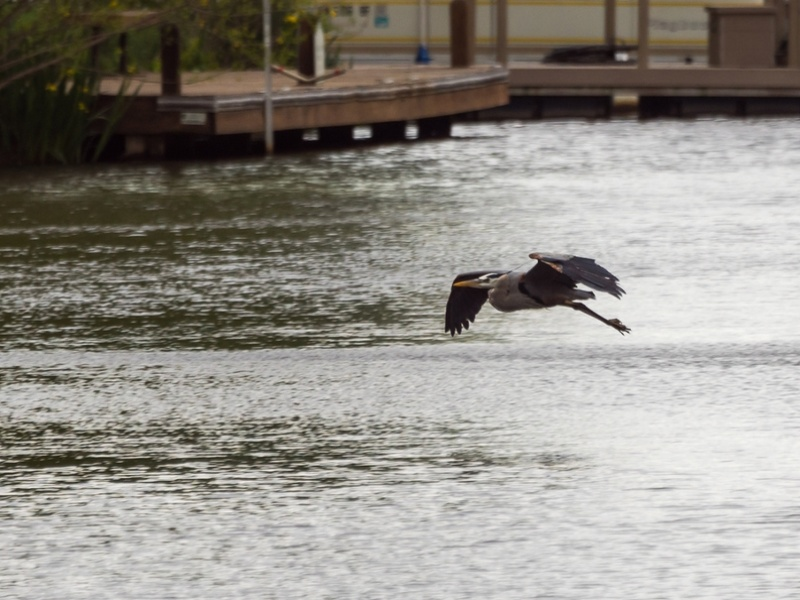heron: (441, 254, 634, 336)
